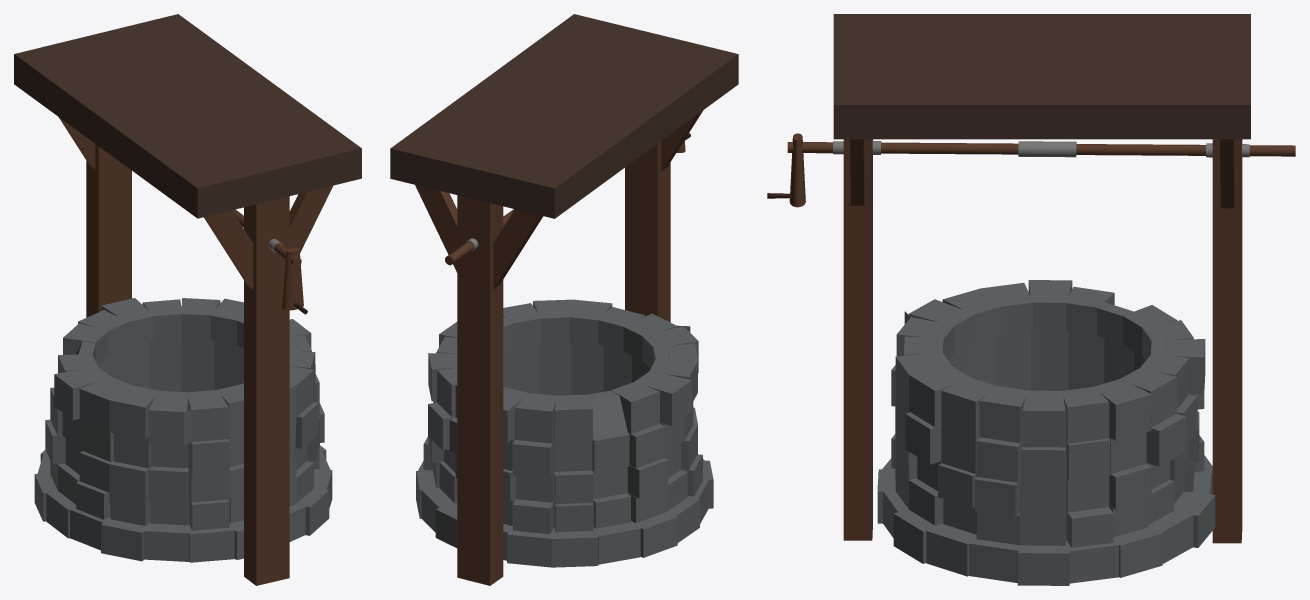
The model's file is well2.fbx.
The picture shows the model from 3 angles, left to right: view 1: azimuth 30°, elevation 25°; view 2: azimuth 150°, elevation 25°; view 3: azimuth 270°, elevation 25°; orthographic projection. The views are drawn at different scales.
Visible parts, largest first — view 1: mwell1; view 2: mwell1; view 3: mwell1.
Part boxes in pixels (left/top/right/bottom): mwell1: left=14, top=14, right=361, bottom=585; mwell1: left=390, top=14, right=738, bottom=585; mwell1: left=767, top=14, right=1295, bottom=585.
Bounding box in the file's own units: 1.62 × 2.5 × 2.53.
